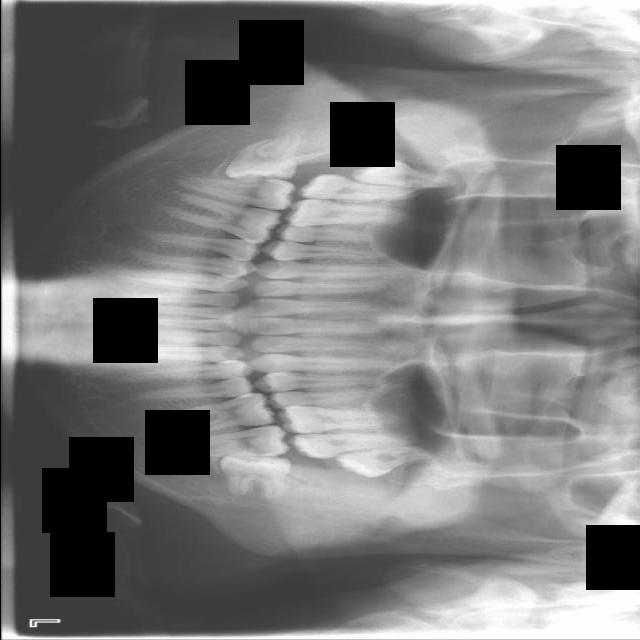3M ESPE Implant: (350, 157, 448, 189)
73: (74, 575, 88, 586)
BioHorizons Implant: (288, 431, 404, 460)
BioLife Implant: (336, 443, 436, 481)
Biomet 3i Implant: (218, 451, 291, 499)
Blue Sky Bio Implant: (174, 425, 288, 459)
Caries: (298, 173, 414, 202)
Implant: (174, 172, 295, 212)
Keystone Dental Implant: (223, 123, 300, 185)
